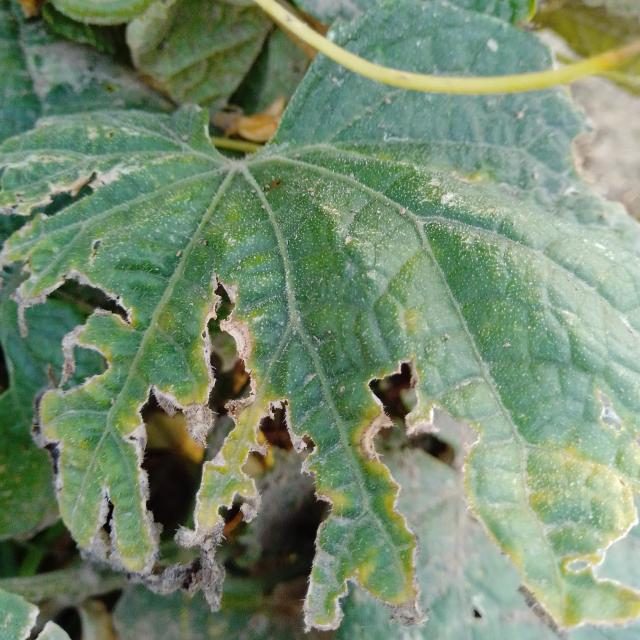cucumber_anthracnose: (9, 164, 598, 621)
